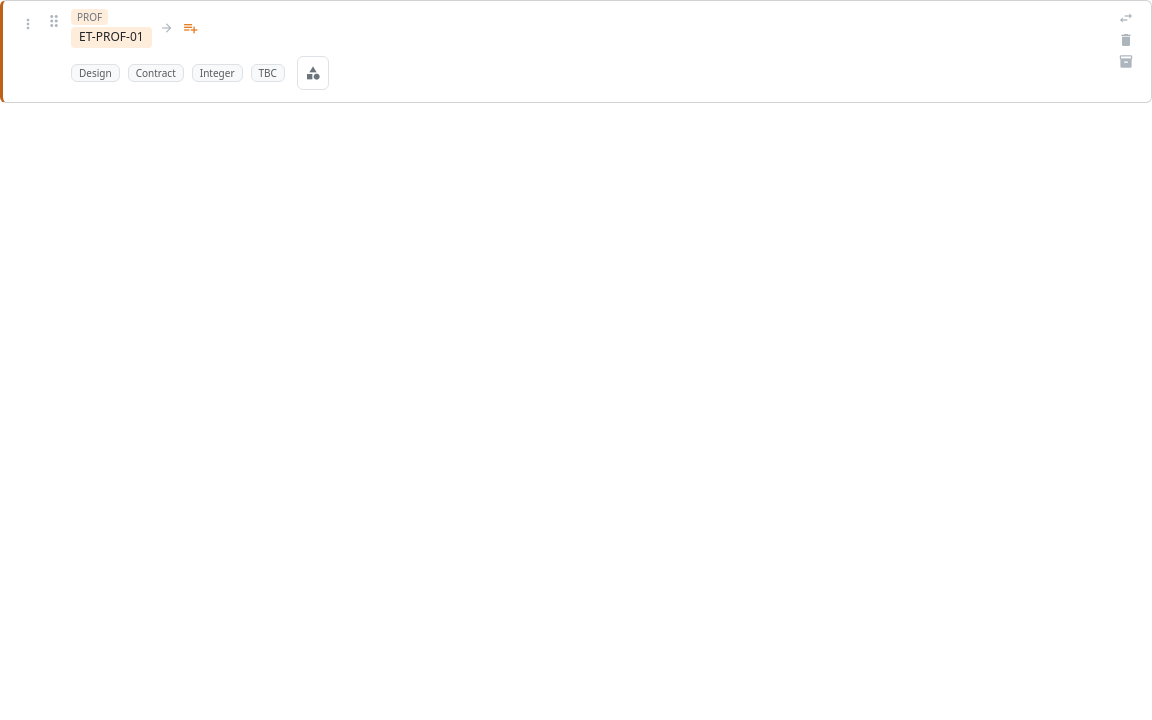
it: deleting from inside a shared wrapper › Cancel does nothing at all
Click the button titled "Mark IsDeleted" at (1126,40), box left=1117, top=31, right=1135, bottom=49
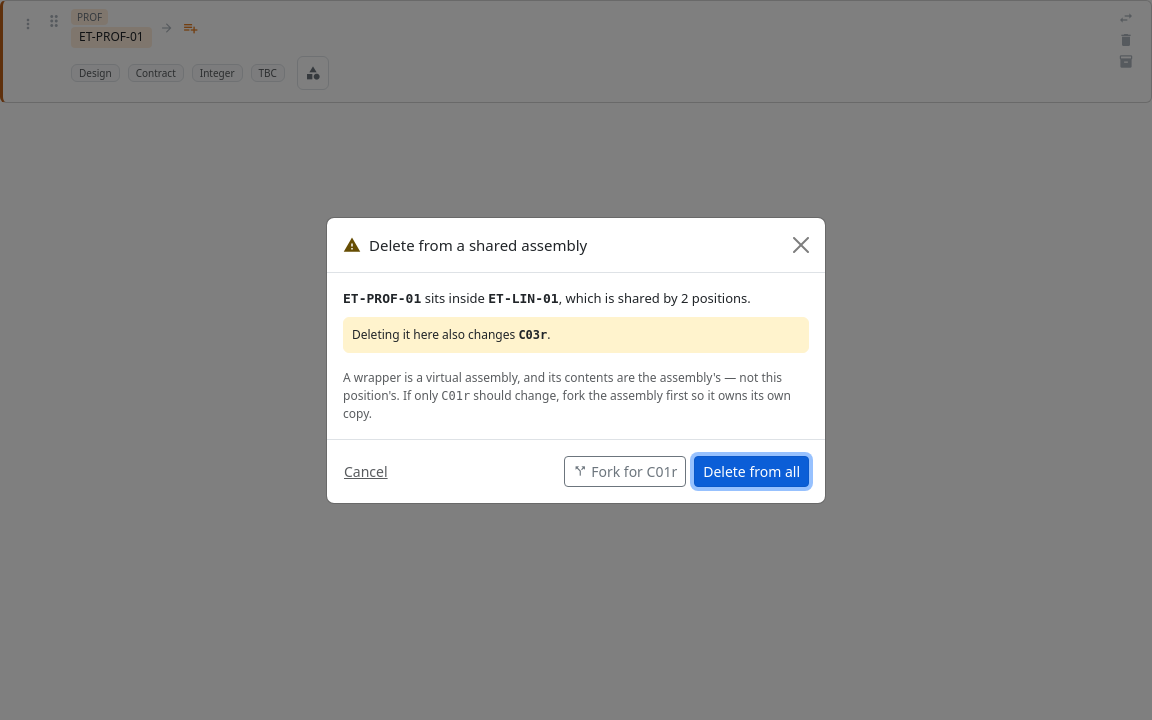
Click the button "Cancel" at (366,471), box left=343, top=456, right=389, bottom=486
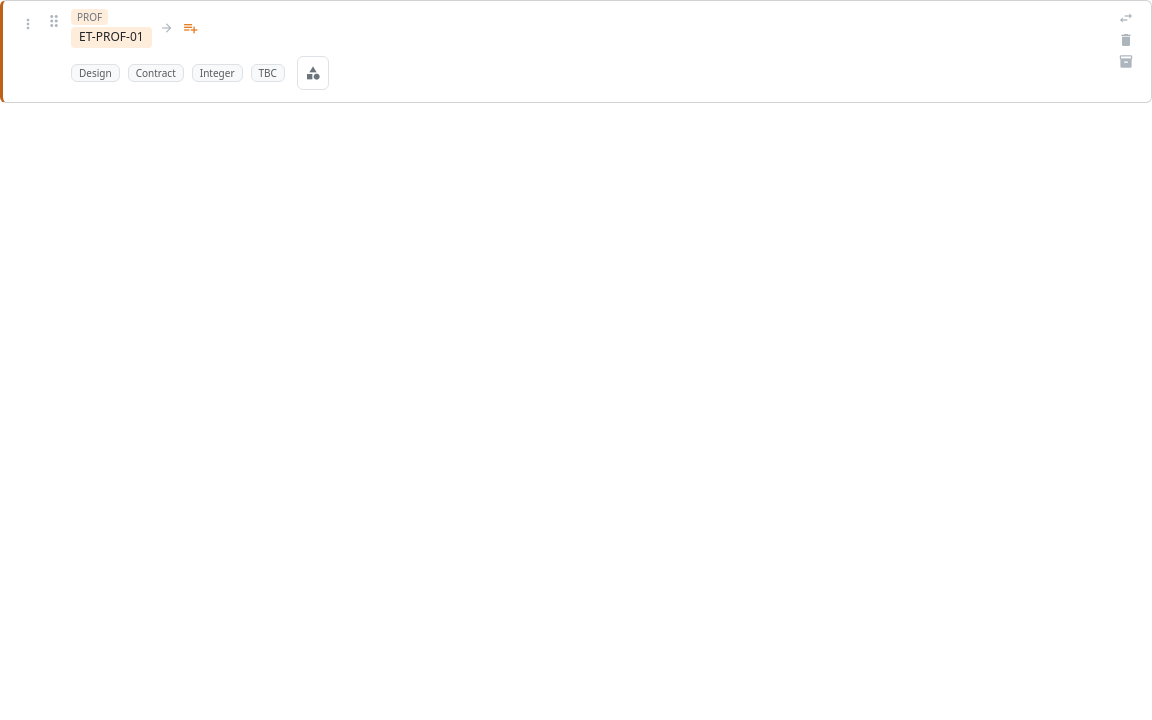
Check: the text "Delete from a shared assembly" is gone
